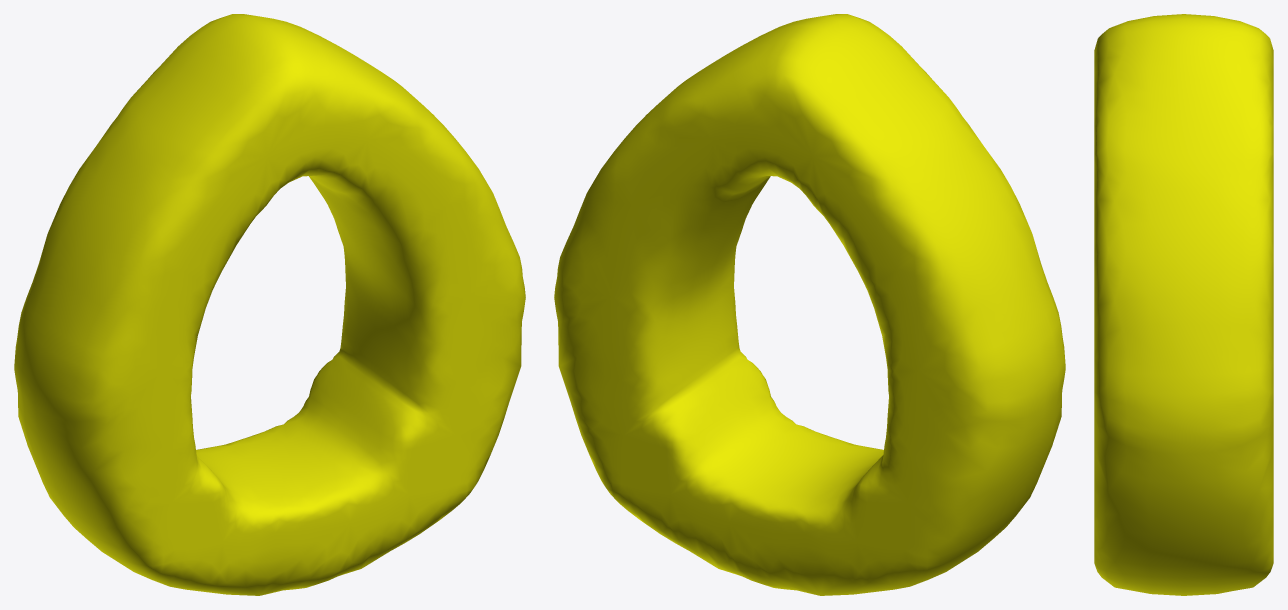
3 views of the same model, side by side, from view 1: azimuth 30°, elevation 25°; view 2: azimuth 150°, elevation 25°; view 3: azimuth 270°, elevation 25° (orthographic).
Parts seen in each view (by area): view 1: num_5; view 2: num_5; view 3: num_5.
Part boxes in pixels (x1,y1,x2,y2): num_5: (14,14,525,595); num_5: (554,14,1065,595); num_5: (1094,14,1273,595).
Size of the model in its own units: 6.04 by 6.77 by 2.
